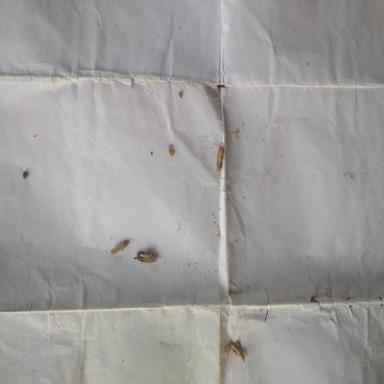pbw: (106, 238, 134, 259), (226, 340, 247, 362), (132, 249, 157, 262), (214, 146, 224, 177)
